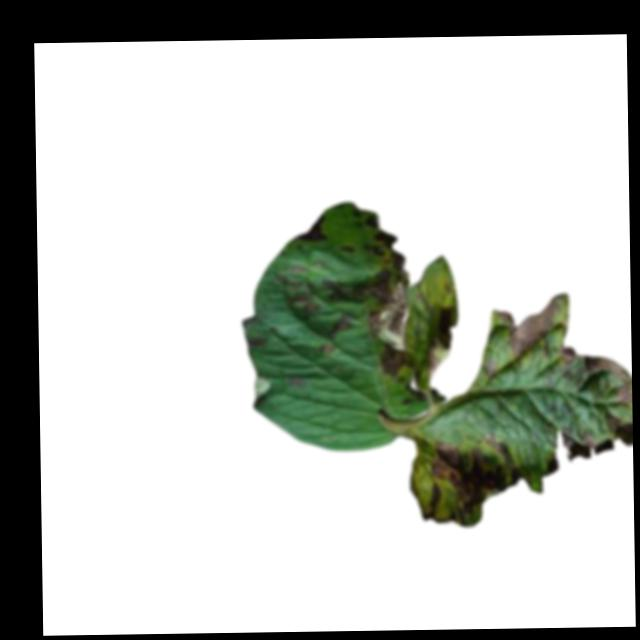Early_blight: (407, 432, 523, 528), (369, 267, 415, 378), (561, 342, 631, 406), (499, 297, 557, 364), (370, 214, 409, 267), (560, 426, 599, 461), (436, 301, 457, 351), (295, 215, 327, 241), (296, 288, 319, 315), (333, 313, 354, 331)
